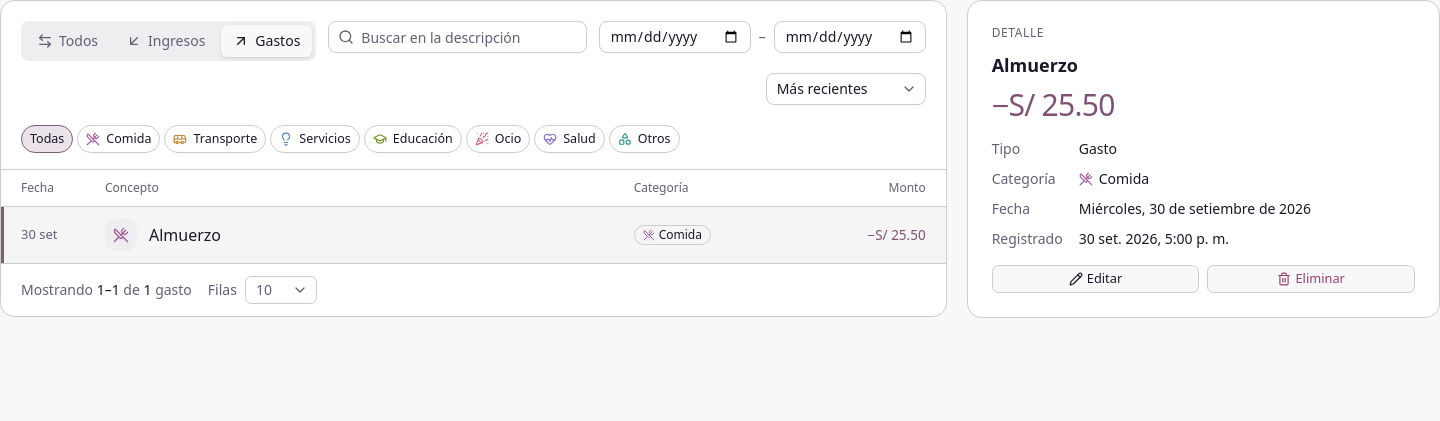
Test: ExpensesPage › cancelar la confirmacion no borra
Click the button "Eliminar" at {"x": 1311, "y": 279}, box [1207,265,1415,293]
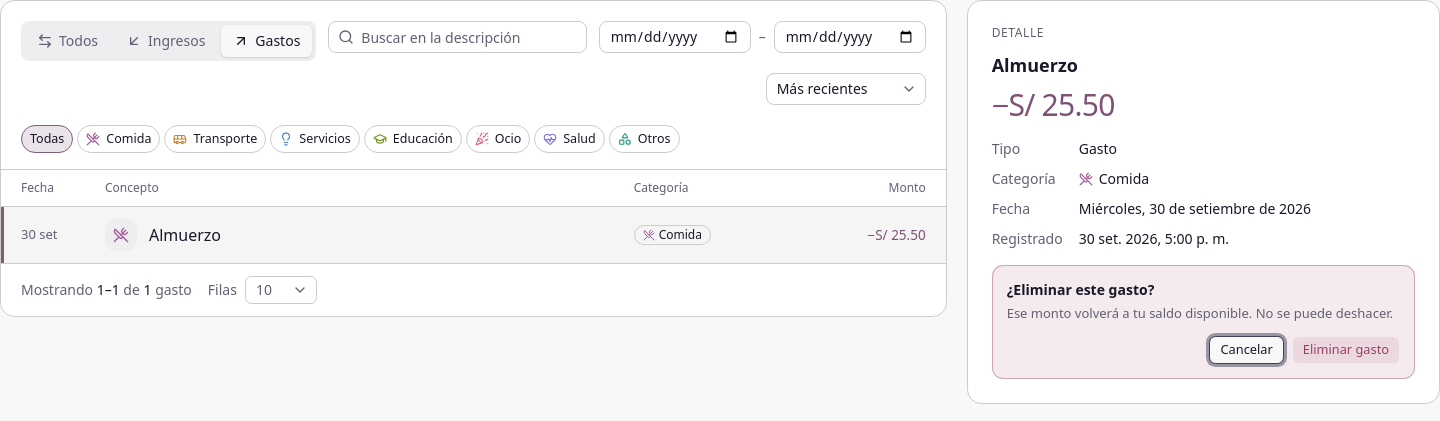
Click the button "Cancelar" at {"x": 1247, "y": 350}, box [1210,336,1284,364]
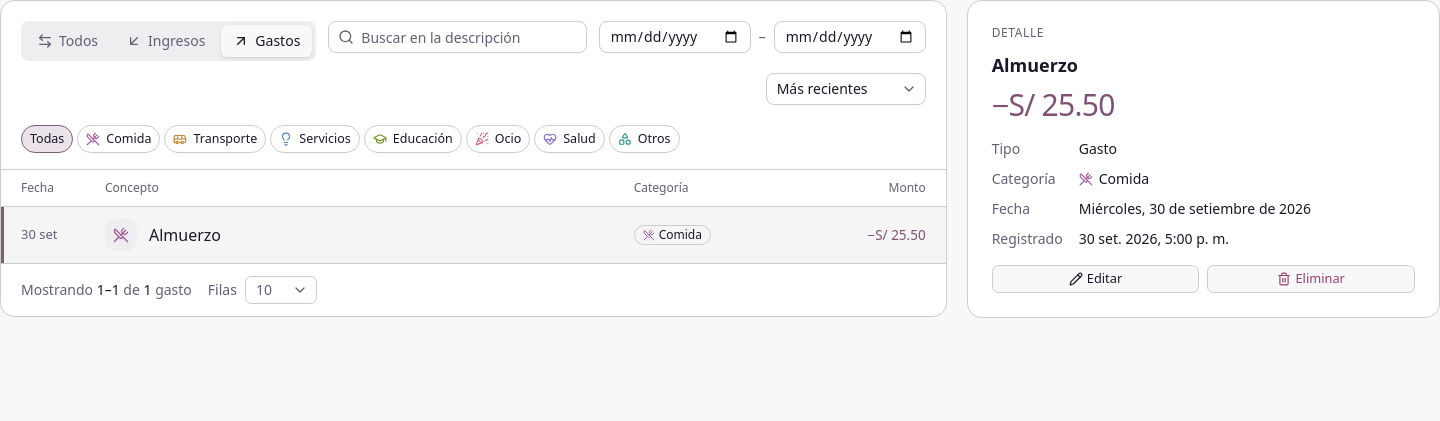
Now the text "¿Eliminar este gasto?" is gone
